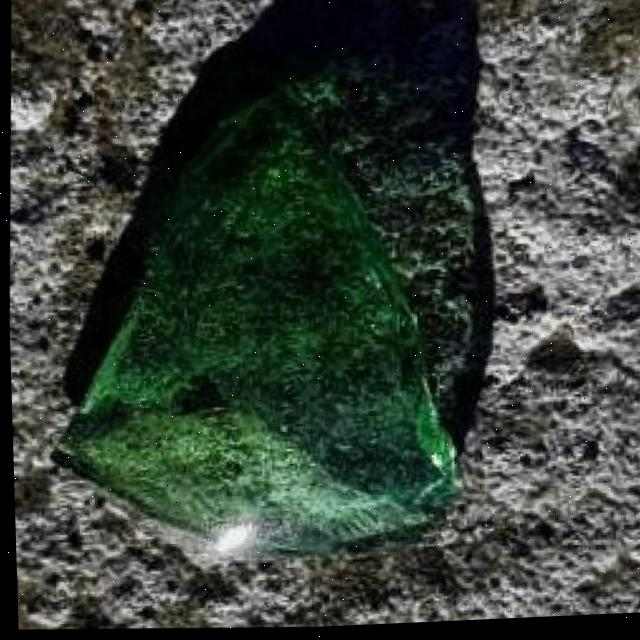Dry: (39, 77, 472, 571)
